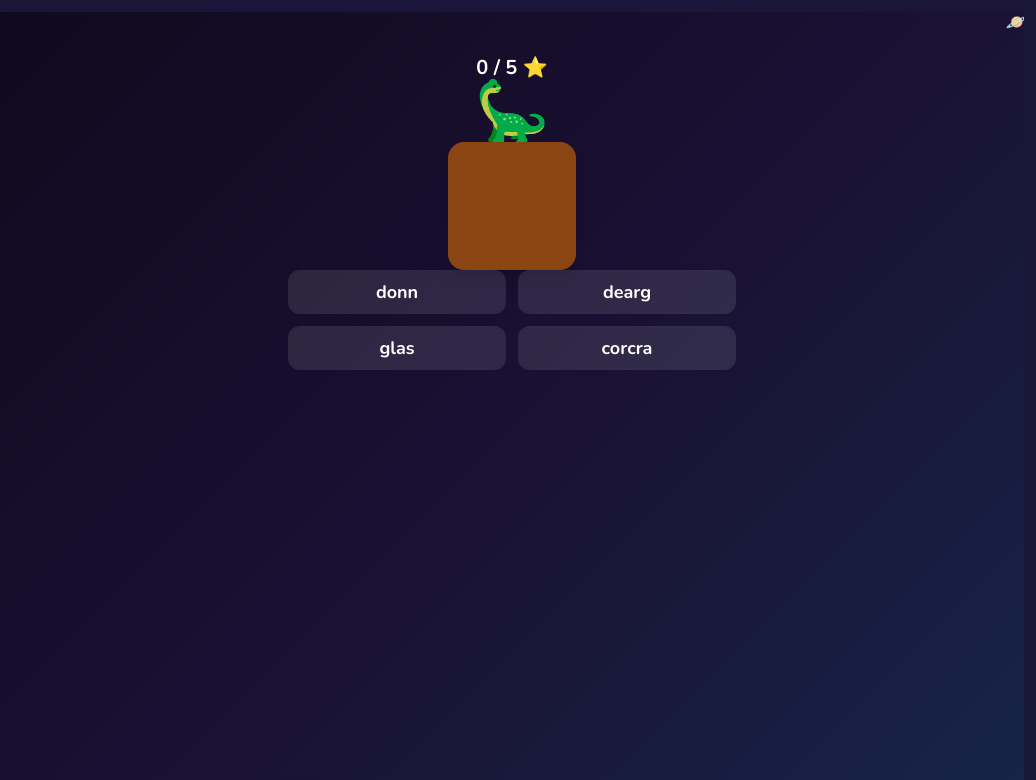
Test case: ColorMatch › Gameplay - correct answer › increments progress after correct answer
Click the button "donn" at x=397, y=292, box [288,270,506,314]
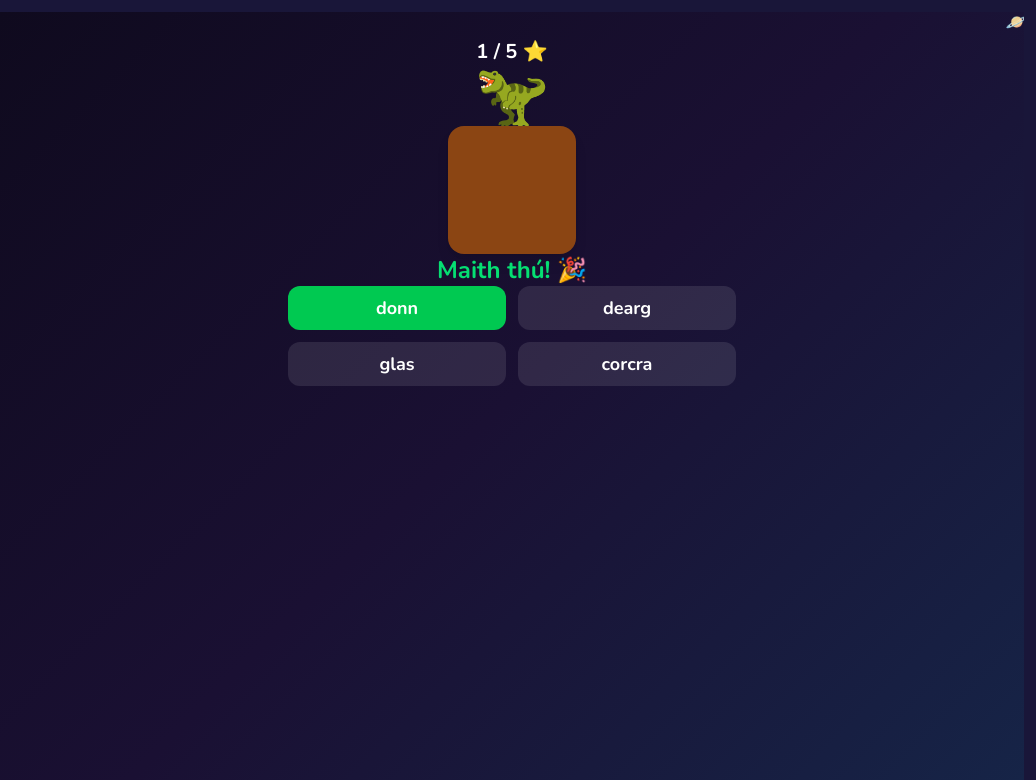
Expected: the text "1 / 5 ⭐" is shown, [476,38,548,66]
